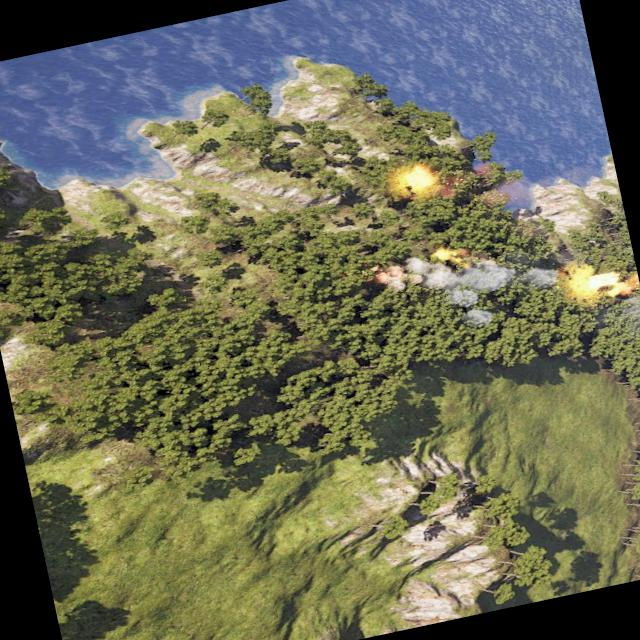fire: (570, 260, 638, 306), (394, 160, 436, 195), (430, 246, 458, 264)
smoke: (371, 230, 566, 346)
